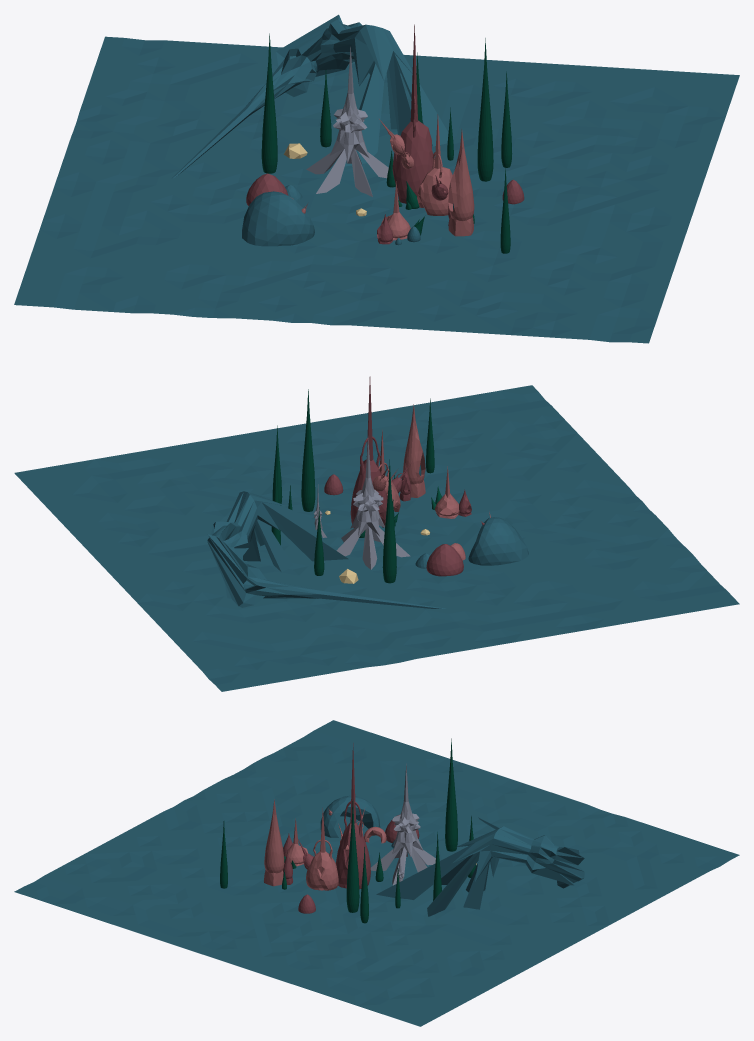
File: spaceblobtowers.dae
3 views of the same model, one above another, from view 1: azimuth 30°, elevation 25°; view 2: azimuth 150°, elevation 25°; view 3: azimuth 270°, elevation 25° (orthographic). The views are drawn at different scales.
Parts seen in each view (by area): view 1: Plane, Icosphere_029, Icosphere_002, Icosphere_025, Icosphere_008, Icosphere_027, Icosphere_007, Icosphere_001, Icosphere_019, Icosphere_017, Icosphere_026, Icosphere_015 (+2 smaller); view 2: Plane, Icosphere_029, Icosphere_002, Icosphere_025, Icosphere_008, Icosphere_027, Icosphere_007, Icosphere_019, Icosphere_026, Icosphere_015; view 3: Plane, Icosphere_029, Icosphere_002, Icosphere_008, Icosphere_001, Icosphere_025, Icosphere_027, Icosphere_007, Icosphere_019.
Boxes of the visible parts, x1,y1,x2,y2 form: Plane: (14,36,739,343); Icosphere_029: (172,14,448,178); Icosphere_002: (306,46,388,196); Icosphere_025: (242,191,314,246); Icosphere_008: (392,24,433,203); Icosphere_027: (448,129,474,236); Icosphere_007: (477,38,493,181); Icosphere_001: (417,114,452,215); Icosphere_019: (261,33,277,173); Icosphere_017: (501,71,512,167); Icosphere_026: (246,173,288,205); Icosphere_015: (381,181,410,240); Plane: (14,385,739,691); Icosphere_029: (207,491,445,608); Icosphere_002: (336,436,410,569); Icosphere_025: (468,517,528,565); Icosphere_008: (350,376,387,527); Icosphere_027: (403,404,425,497); Icosphere_007: (301,389,315,511); Icosphere_019: (382,459,396,583); Icosphere_026: (426,544,463,576); Icosphere_015: (435,466,459,518); Plane: (14,720,739,1026); Icosphere_029: (376,817,584,916); Icosphere_002: (370,763,435,885); Icosphere_008: (336,743,370,889); Icosphere_001: (306,808,338,890); Icosphere_025: (320,795,380,837); Icosphere_027: (264,799,284,886); Icosphere_007: (346,799,359,912); Icosphere_019: (445,738,457,851).
Size of the model in its own units: 56.87 by 56.87 by 17.93.
